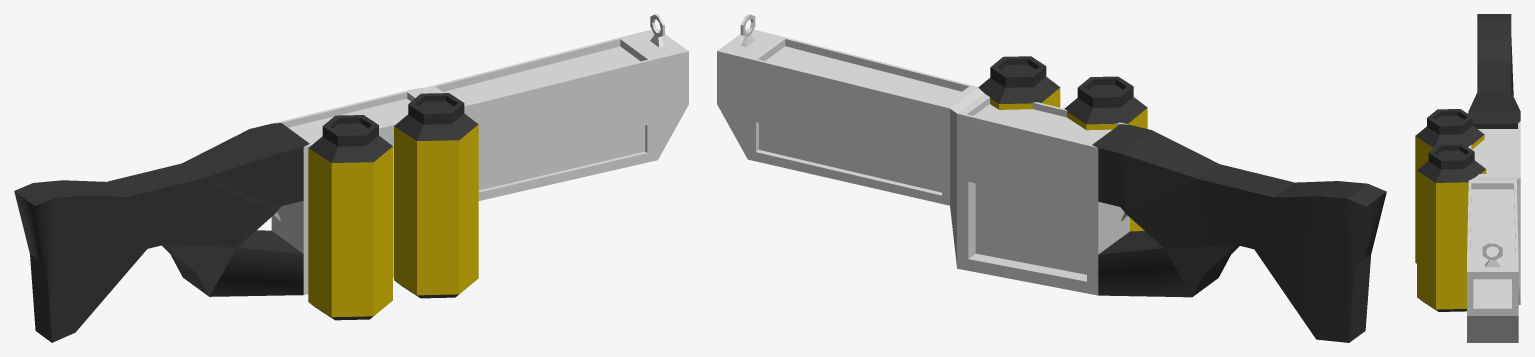
The model's file is energy.glb.
The picture shows the model from 3 angles, left to right: view 1: azimuth 30°, elevation 25°; view 2: azimuth 150°, elevation 25°; view 3: azimuth 270°, elevation 25°; orthographic projection. The views are drawn at different scales.
Visible parts, largest first — view 1: Energy, Battery.001, Battery.002; view 2: Energy, Battery.002, Battery.001; view 3: Energy, Battery.001, Battery.002.
Part boxes in pixels (x1,y1,x2,y2): Energy: (14, 14, 688, 342); Battery.001: (394, 93, 478, 298); Battery.002: (308, 115, 392, 320); Energy: (717, 14, 1386, 342); Battery.002: (1064, 76, 1147, 231); Battery.001: (978, 56, 1060, 109); Energy: (1467, 14, 1520, 342); Battery.001: (1417, 143, 1486, 311); Battery.002: (1415, 109, 1484, 263).
Bounding box in the file's own units: 1.5 × 0.4231 × 0.2583.
